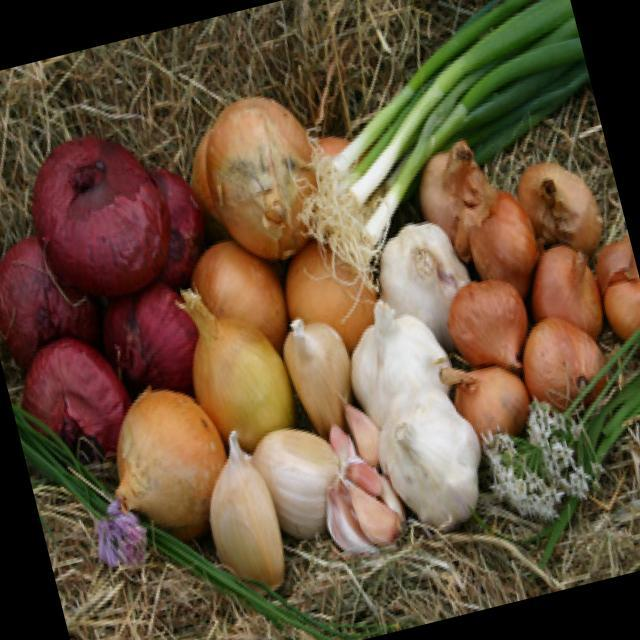ONIONS: (21, 120, 175, 300), (363, 368, 495, 552), (196, 91, 333, 268), (92, 384, 222, 540), (184, 443, 291, 602), (10, 332, 130, 468), (172, 304, 286, 436), (246, 417, 352, 545), (512, 140, 612, 250), (439, 268, 536, 377), (276, 302, 361, 422), (422, 136, 506, 256), (374, 218, 462, 329), (0, 223, 69, 340)
